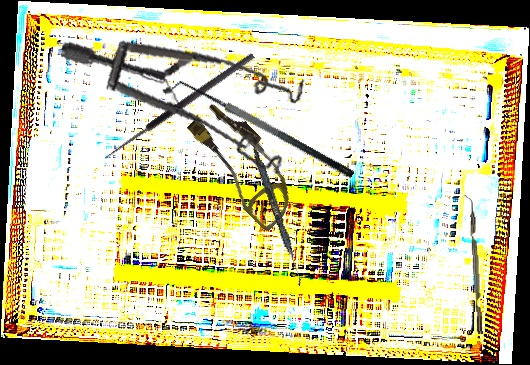Cannula: (175, 95, 312, 233)
Chopper: (463, 194, 483, 335)
Hook Surgical: (102, 51, 261, 170)
Spatula Surgical: (168, 70, 356, 194), (242, 128, 308, 287)
Speculum: (59, 9, 318, 203)
